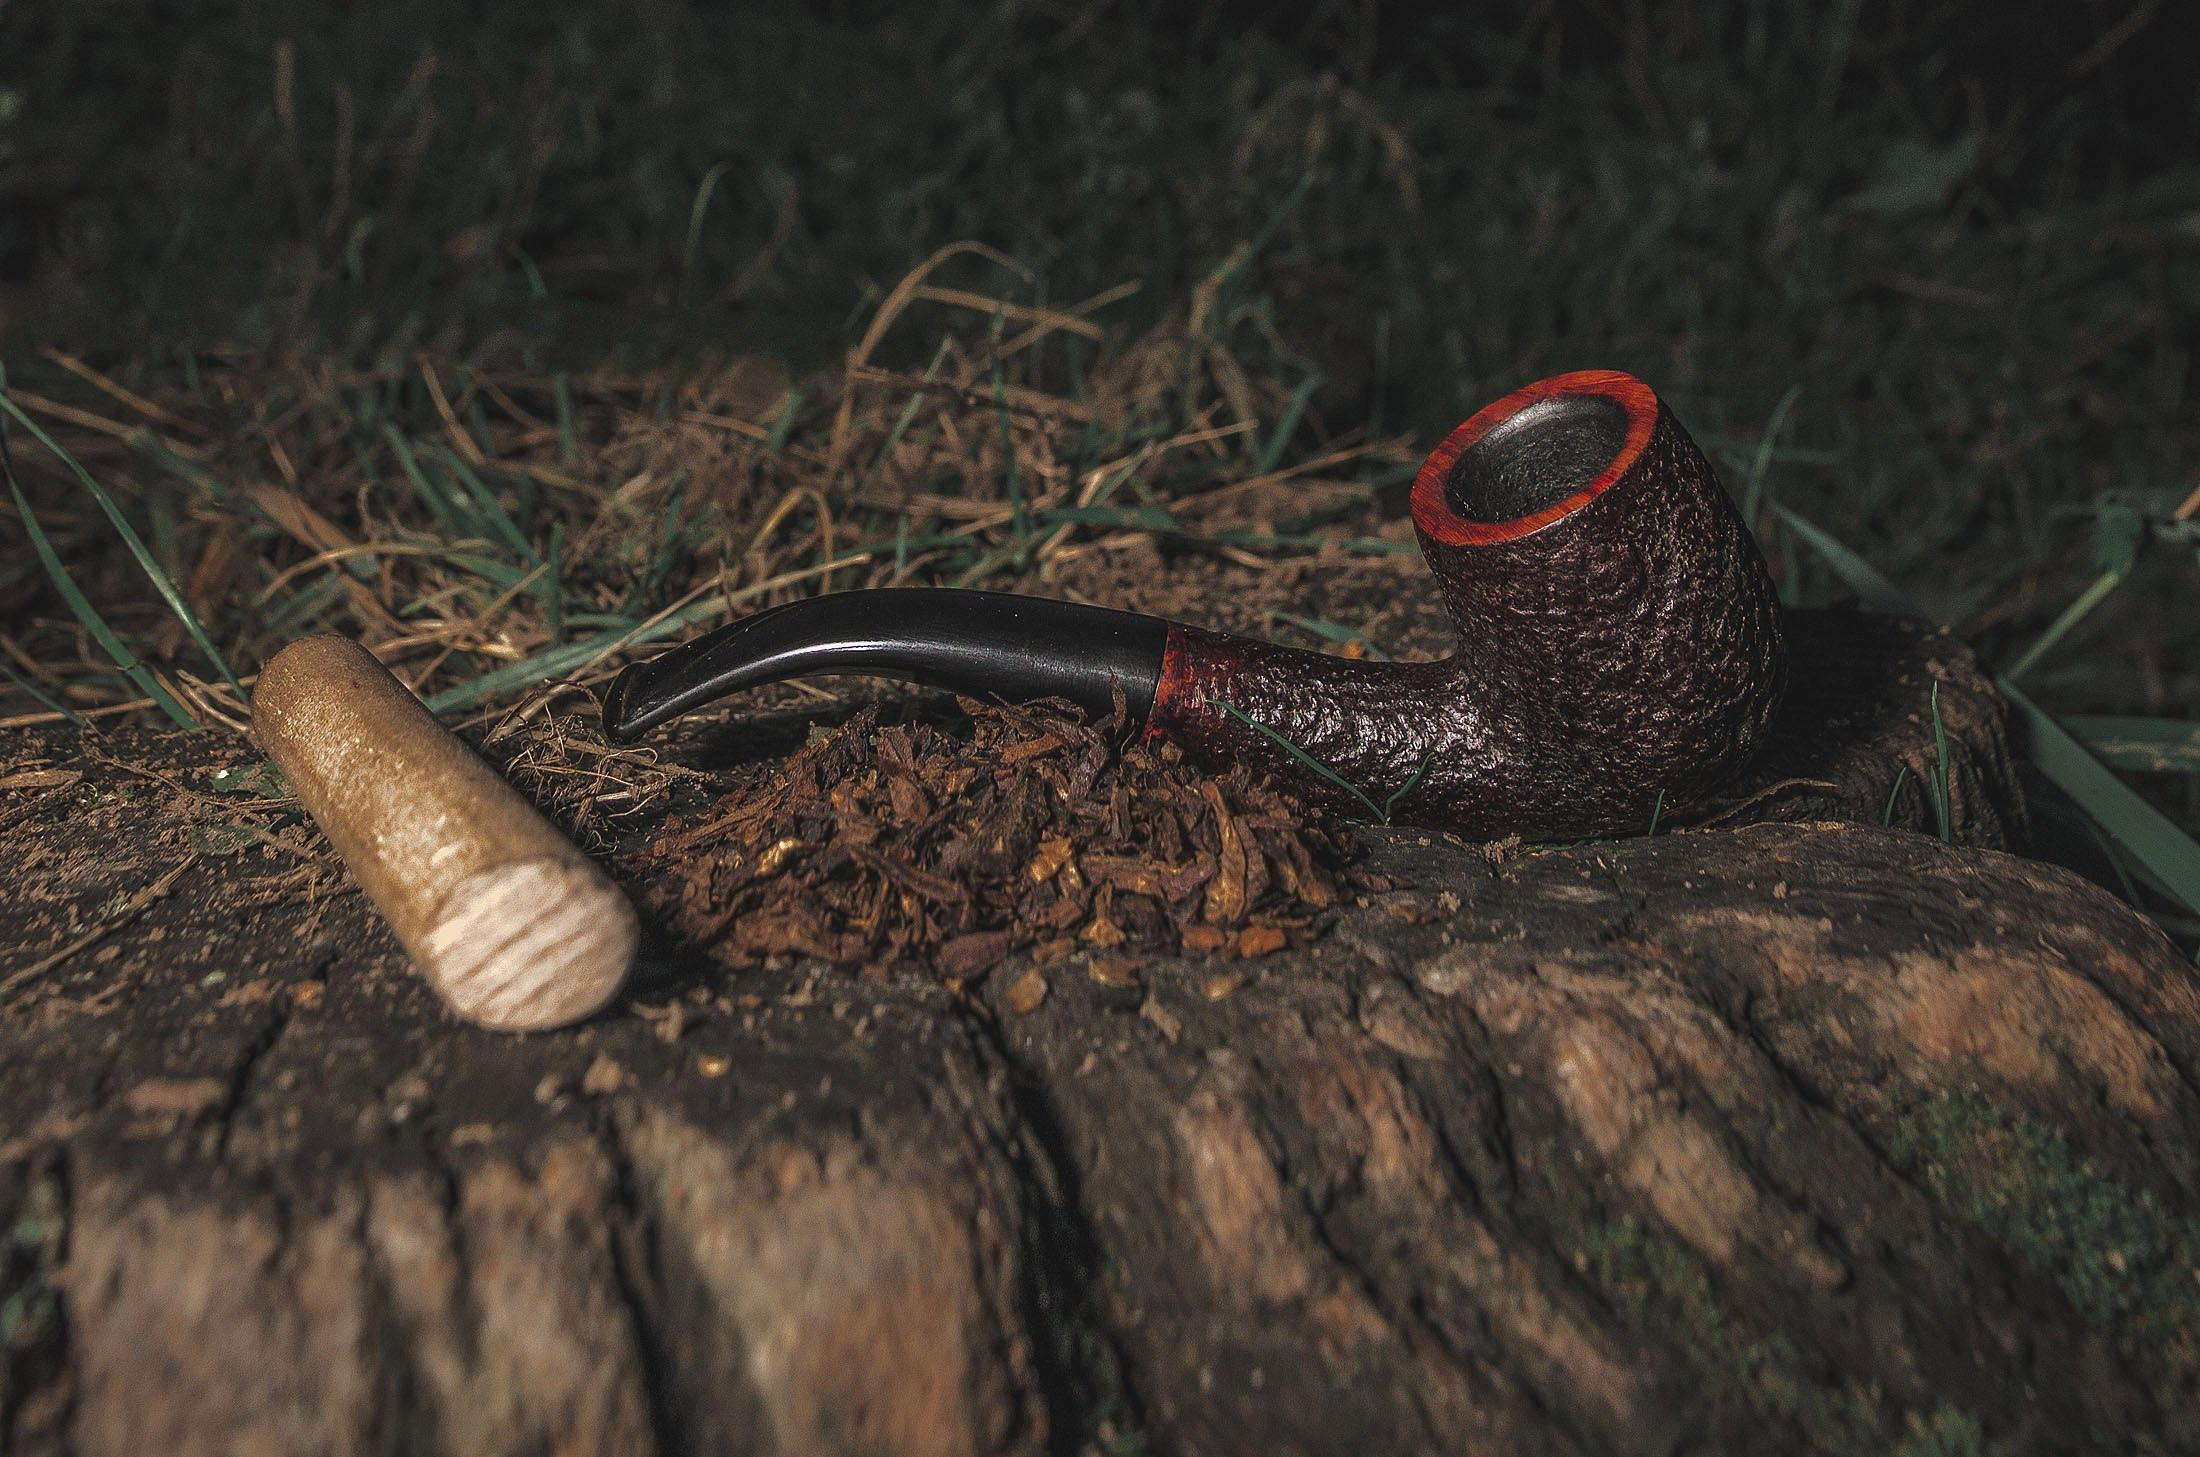trubka: (615, 371, 1785, 841)
